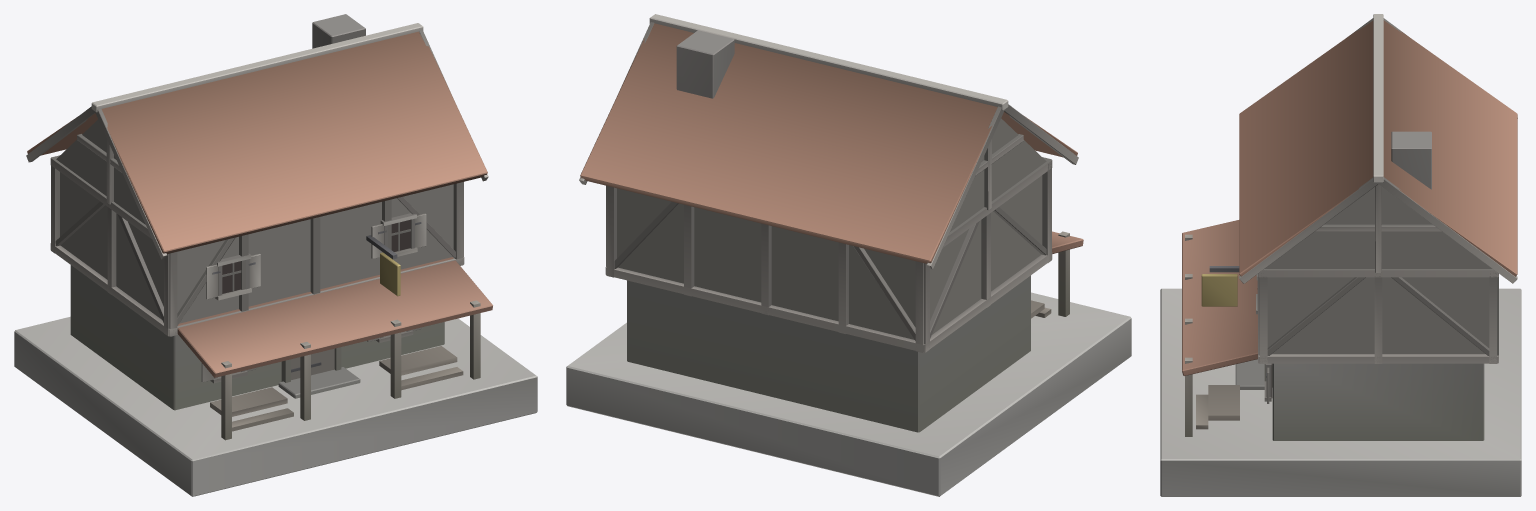
The model's file is tavern_l1_lod1.glb.
The picture shows the model from 3 angles, left to right: view 1: azimuth 30°, elevation 25°; view 2: azimuth 150°, elevation 25°; view 3: azimuth 270°, elevation 25°; orthographic projection. The views are drawn at different scales.
Visible parts, largest first — view 1: tavern_l1_lod1; view 2: tavern_l1_lod1; view 3: tavern_l1_lod1.
Part boxes in pixels (x1,y1,x2,y2): tavern_l1_lod1: [14, 14, 537, 496]; tavern_l1_lod1: [566, 14, 1131, 496]; tavern_l1_lod1: [1160, 14, 1521, 496].
Bounding box in the file's own units: 9.2 × 8.02 × 8.2.
